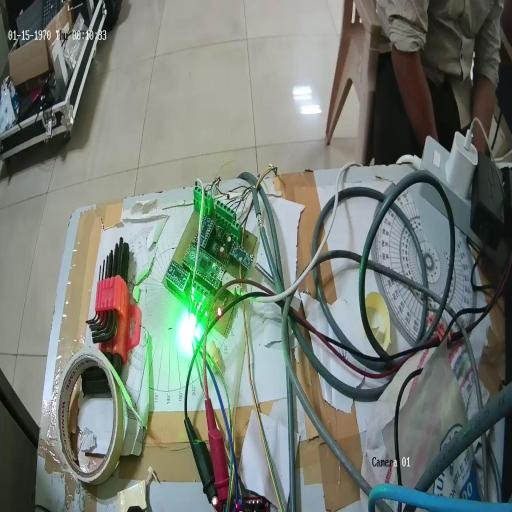laser: (173, 304, 201, 360)
